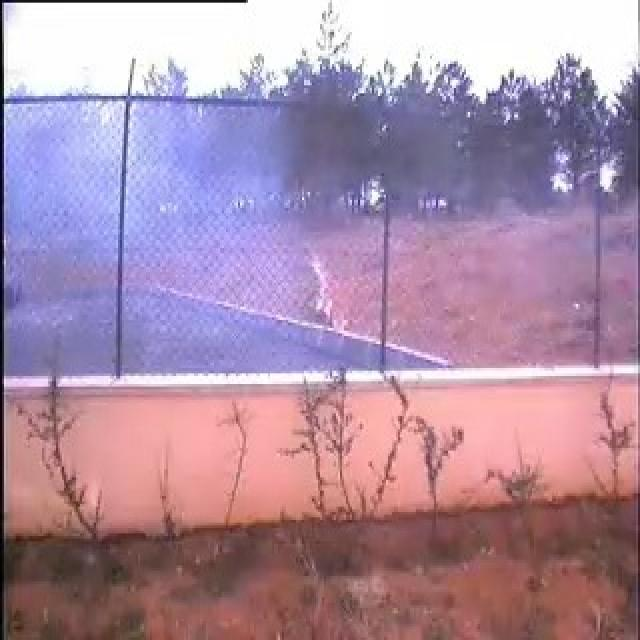smoke: (68, 104, 330, 354)
